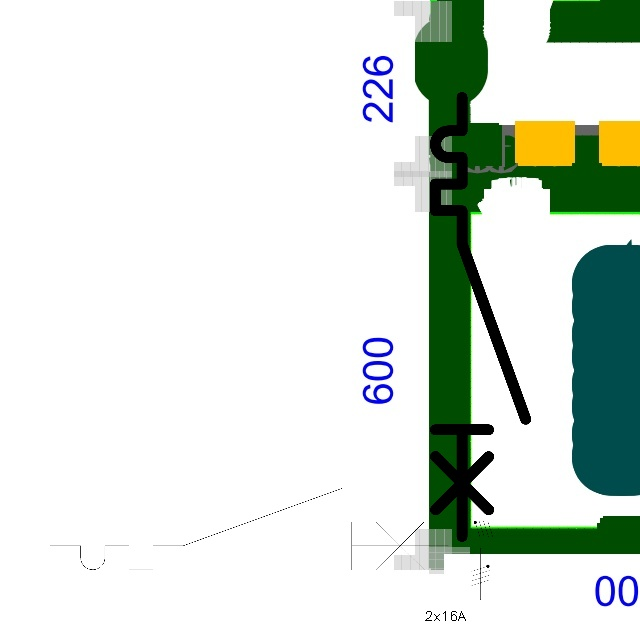interruptor_termomagnetico: (424, 86, 537, 547), (40, 478, 459, 580)
